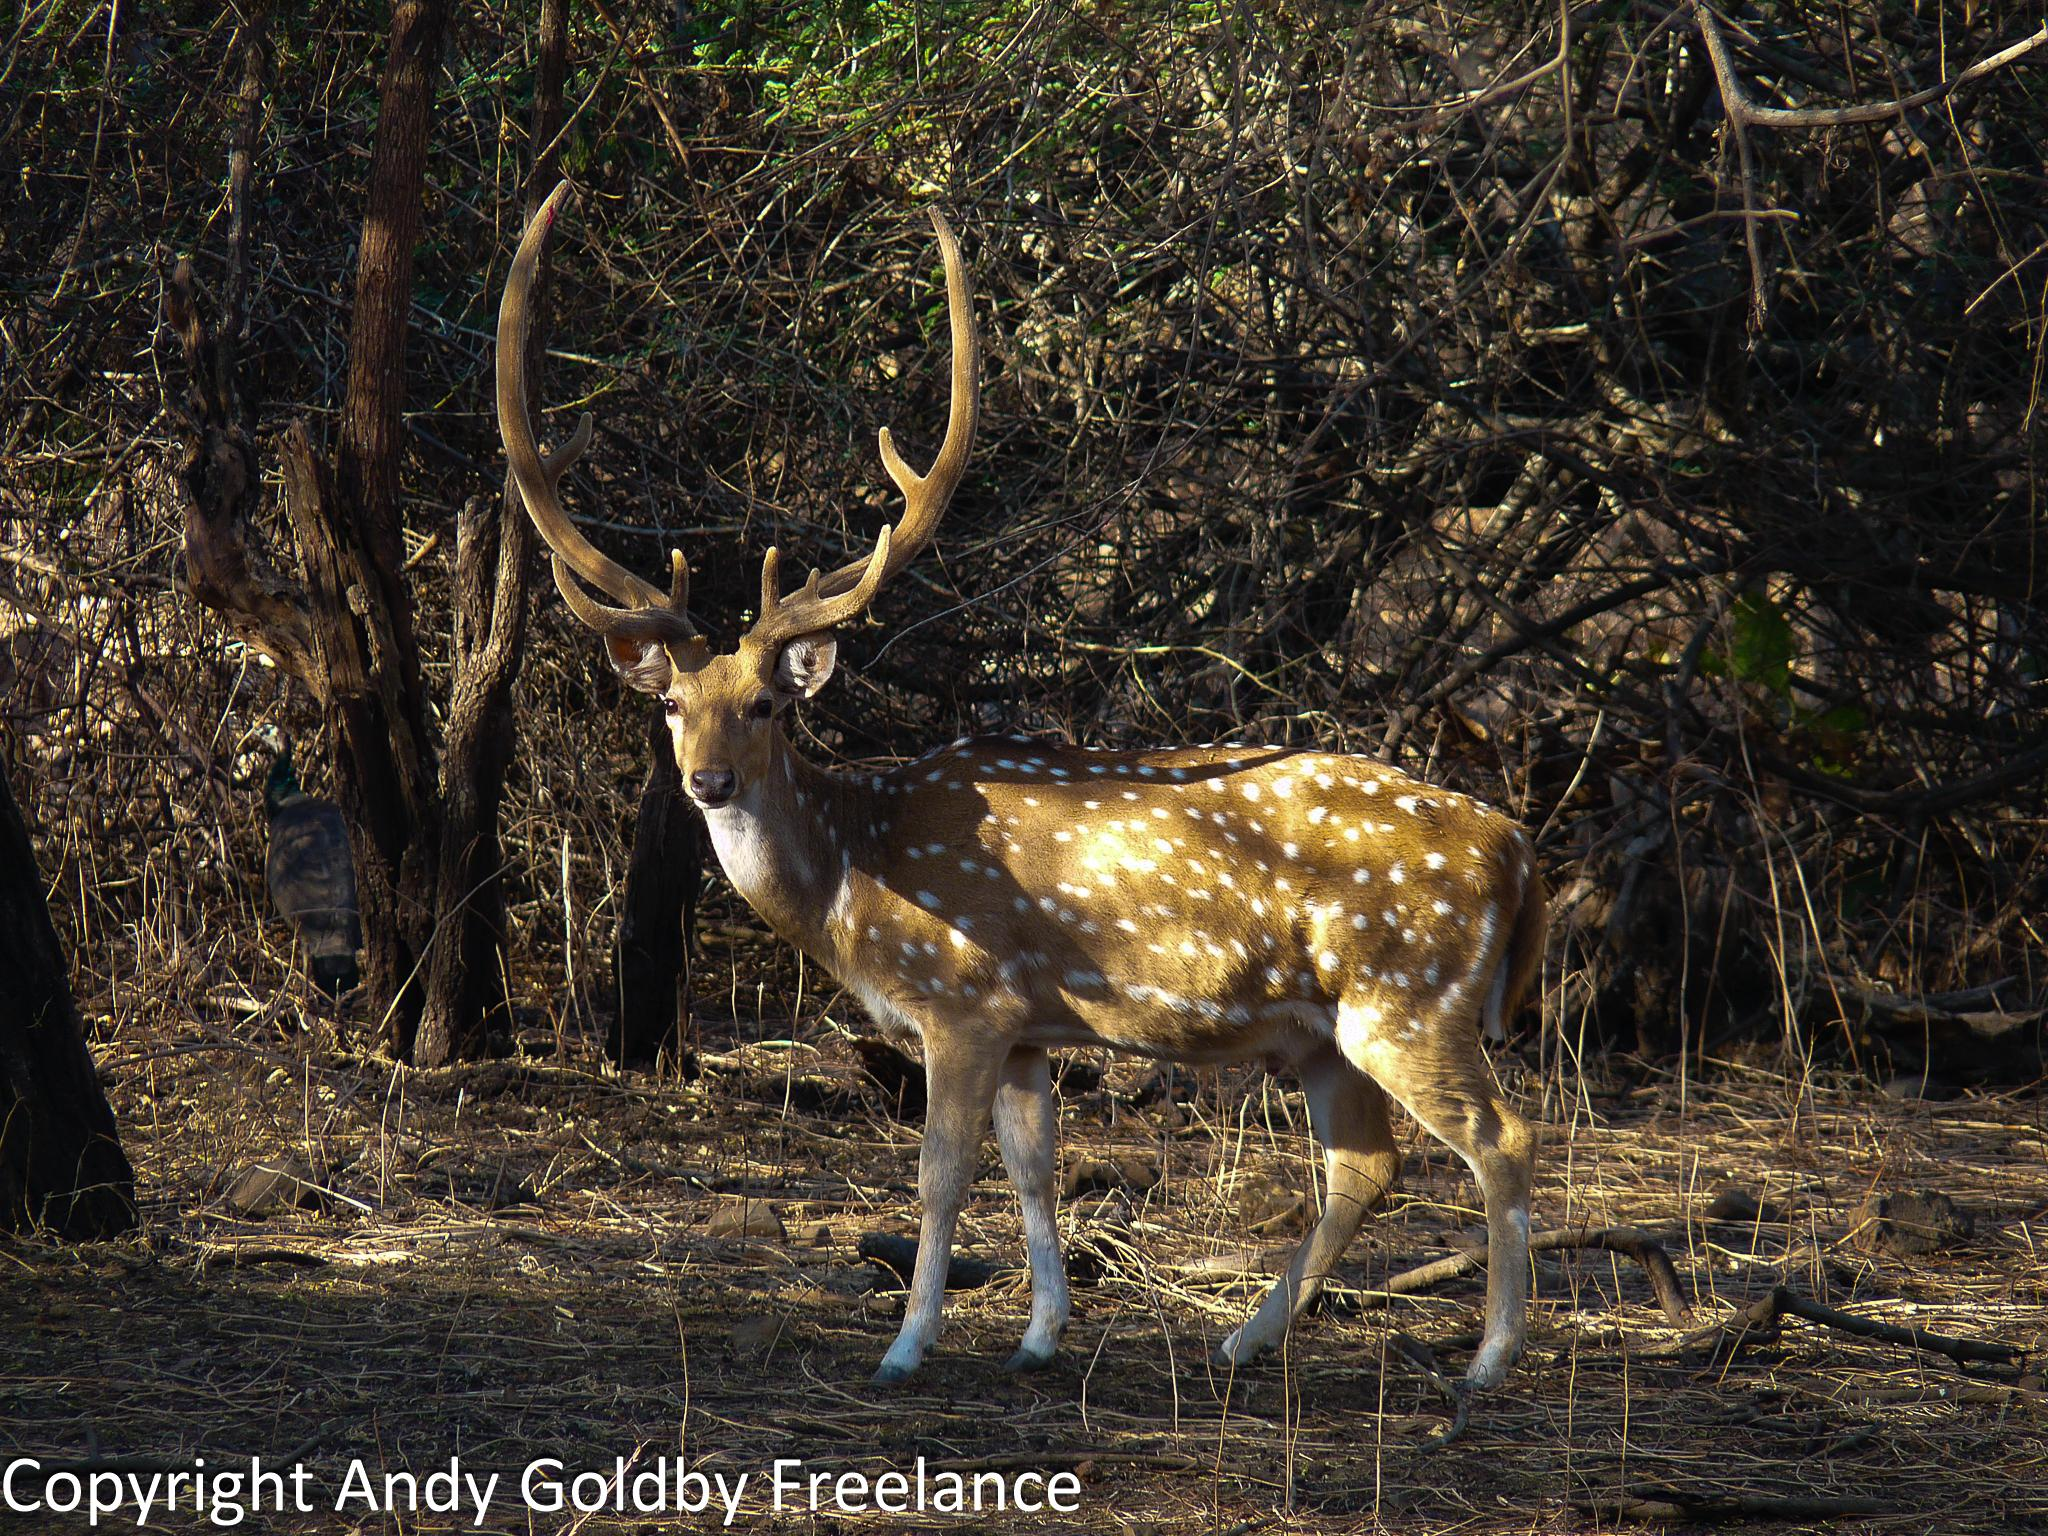Deer: (498, 190, 1546, 1389)
